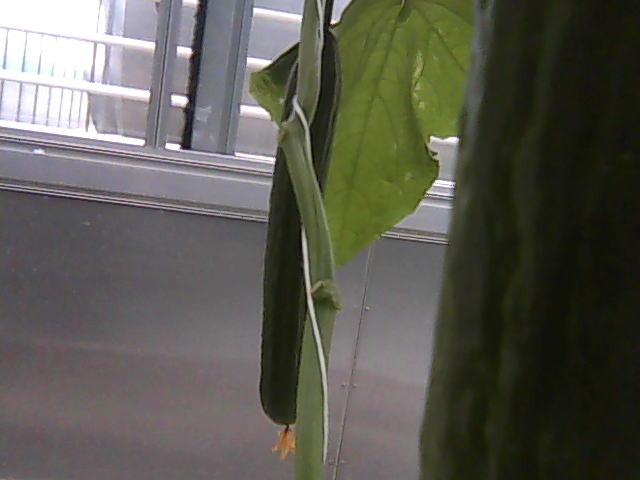concombre: (417, 1, 640, 480), (258, 20, 345, 464)
